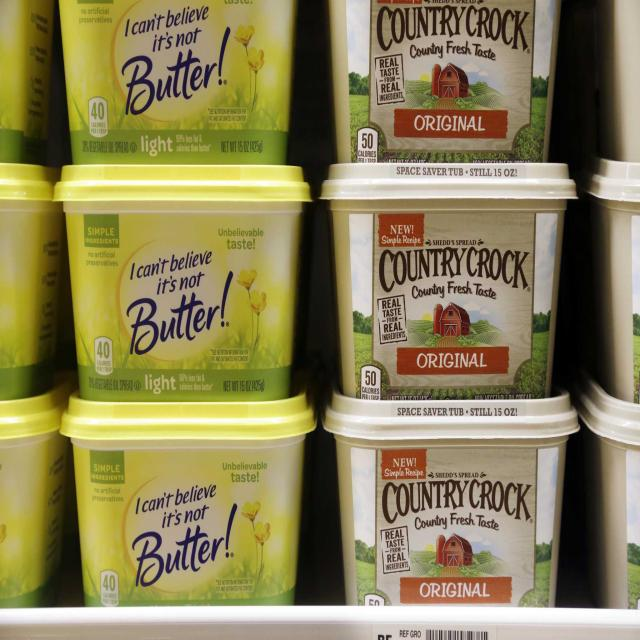plastic: (0, 161, 309, 394), (0, 393, 314, 603), (321, 154, 576, 398), (326, 395, 578, 607), (0, 0, 295, 164), (319, 0, 575, 162), (579, 154, 640, 397), (578, 381, 640, 608)
